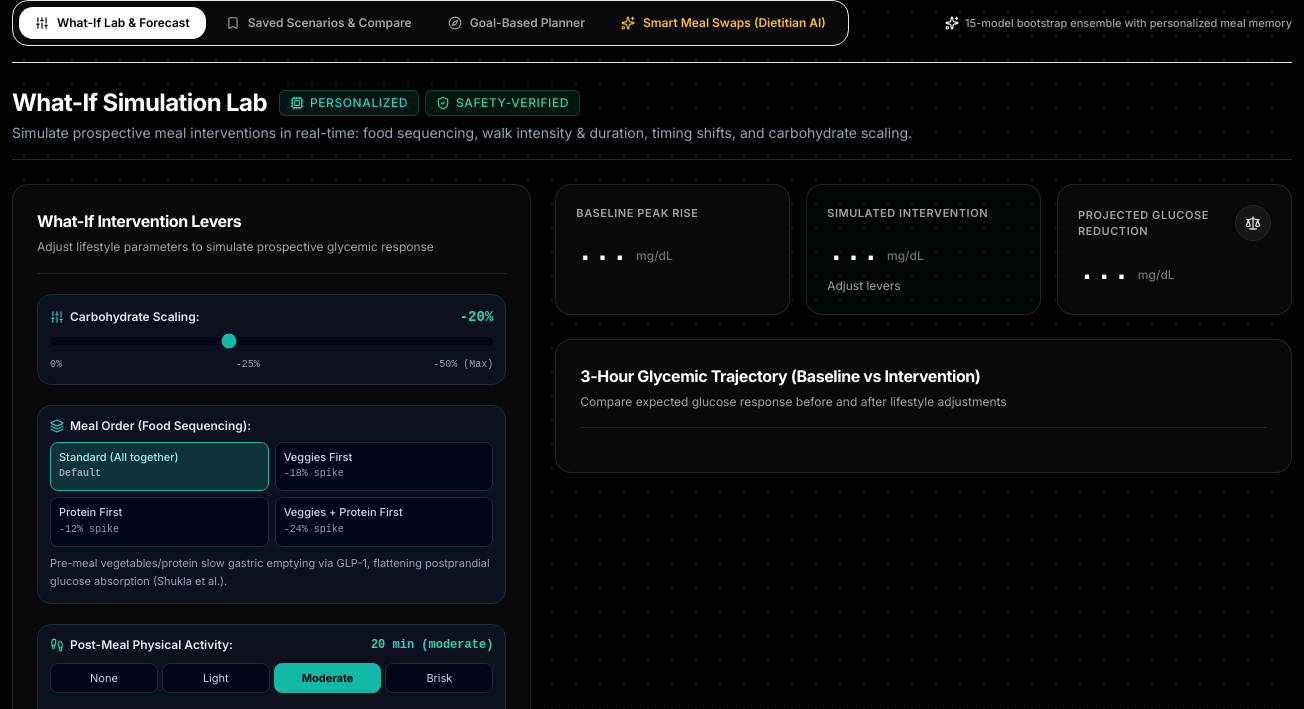
Simulation Lab Extended Tests › switches between tabs seamlessly in SimulationWorkspace
Expected: the heading "What-If Simulation Lab" is shown, [12, 87, 267, 119]
Switch to Saved Scenarios tab
Click the button "Saved Scenarios & Compare": (319, 23) [210, 7, 428, 39]
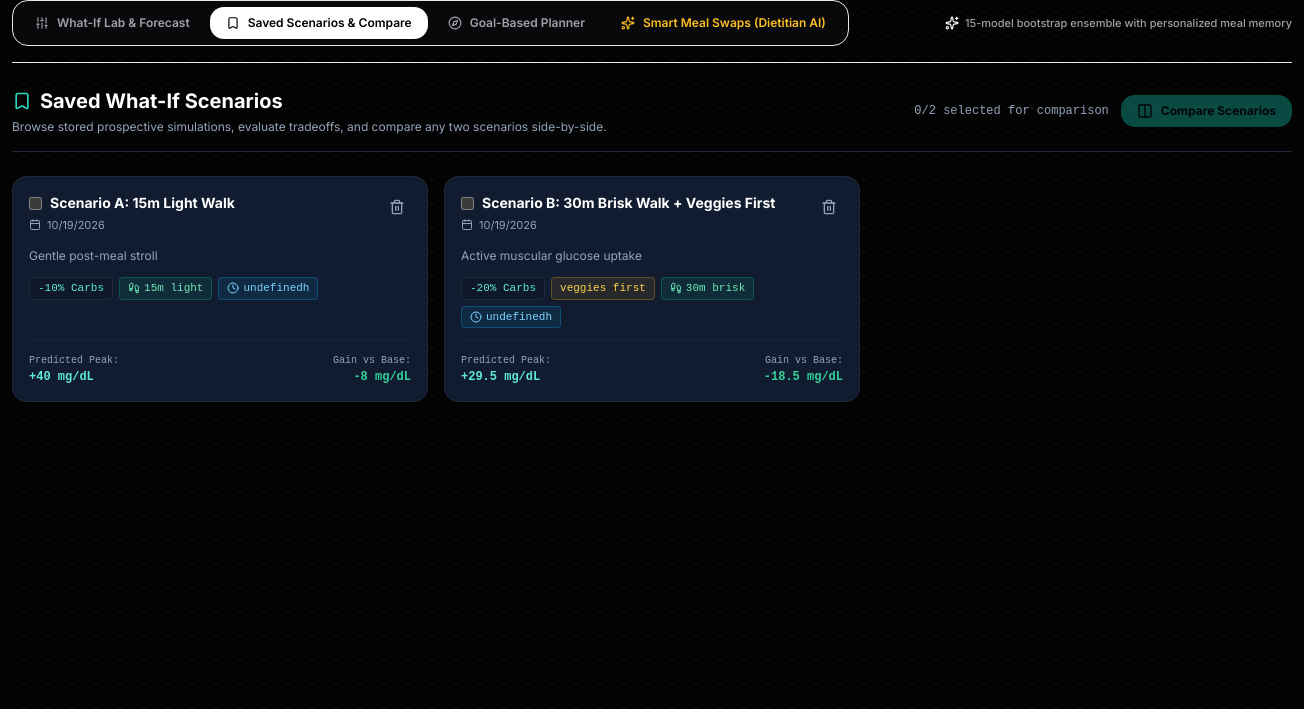
Result: the heading "Scenario A: 15m Light Walk" is shown at [50, 193, 235, 213]
Switch to Goal Planner tab
Click the button "Goal-Based Planner": (516, 23) [432, 7, 601, 39]
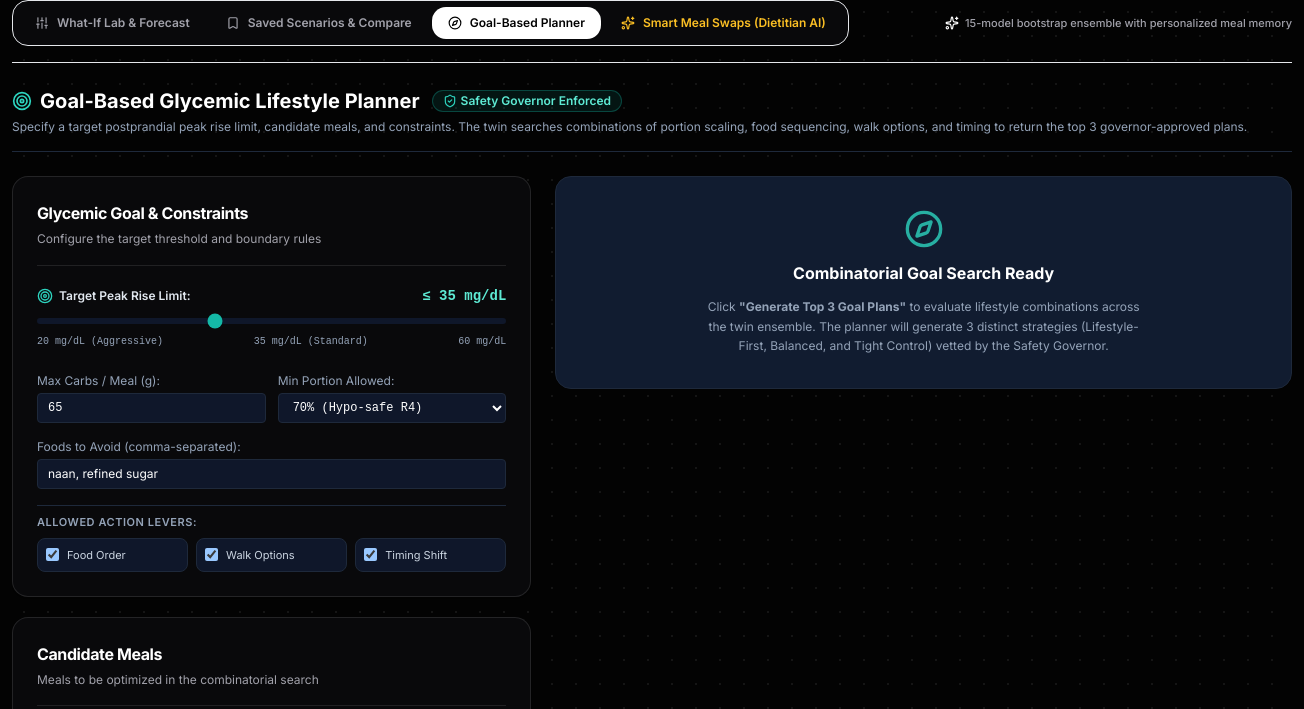
Result: the text "Goal-Based Glycemic Lifestyle Planner" is shown at [40, 87, 420, 115]
